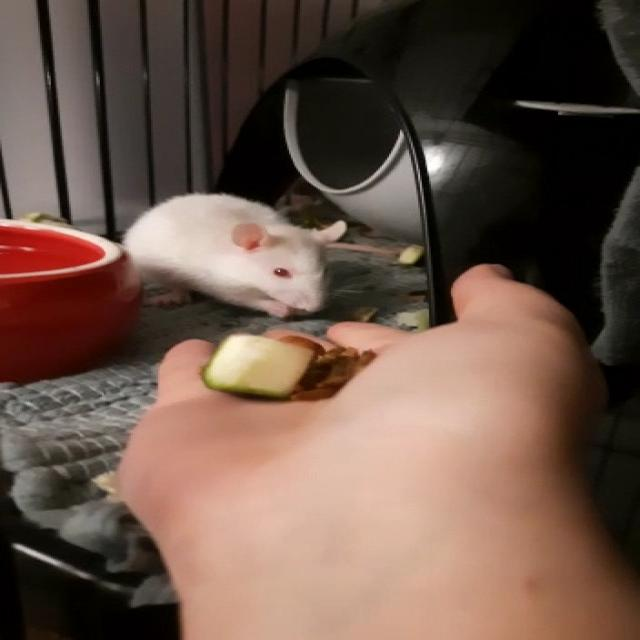rat: (126, 193, 350, 324)
